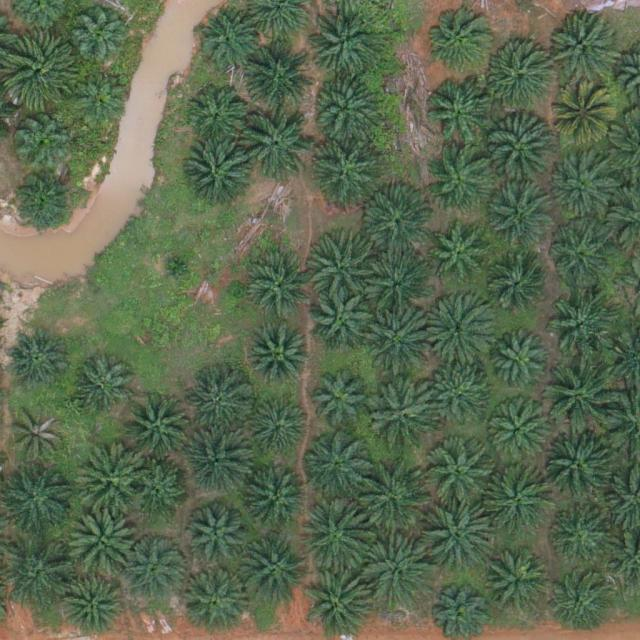Dead: (12, 409, 66, 464)
Healthy: (482, 465, 553, 536), (426, 441, 497, 512), (366, 305, 437, 376), (362, 540, 433, 611), (314, 71, 385, 142), (182, 427, 253, 498), (237, 536, 308, 607), (547, 287, 617, 358), (544, 430, 614, 501), (486, 117, 557, 187), (484, 551, 554, 622), (425, 80, 495, 151), (427, 146, 497, 217), (423, 295, 493, 366), (369, 378, 440, 448), (358, 461, 428, 532), (298, 503, 368, 574), (302, 430, 372, 501), (309, 135, 379, 206), (182, 141, 252, 212), (183, 566, 253, 637), (123, 392, 193, 463), (75, 444, 145, 515), (67, 505, 137, 576), (3, 464, 73, 535), (548, 15, 618, 86), (426, 4, 496, 75), (309, 12, 379, 83), (244, 40, 314, 111), (543, 363, 613, 433), (427, 502, 497, 572), (365, 193, 435, 263), (309, 228, 379, 298), (239, 109, 309, 179), (6, 540, 76, 610), (479, 43, 549, 113), (5, 35, 75, 105), (547, 154, 610, 217), (549, 575, 612, 638), (310, 289, 373, 352), (249, 399, 312, 462), (124, 536, 187, 599), (70, 356, 133, 419), (549, 224, 611, 287), (551, 507, 613, 570), (490, 189, 552, 252), (485, 260, 547, 323), (487, 402, 549, 465), (428, 224, 490, 287), (429, 369, 492, 431), (310, 371, 372, 434), (249, 327, 312, 389), (186, 85, 248, 148), (188, 374, 250, 437), (186, 509, 248, 572), (61, 575, 123, 638), (12, 169, 74, 232), (6, 327, 68, 390), (198, 10, 260, 73), (367, 254, 429, 316), (249, 259, 311, 321), (247, 472, 309, 534), (493, 335, 548, 391), (131, 464, 186, 519), (14, 111, 69, 166), (75, 71, 130, 126), (73, 13, 128, 68)
Small: (160, 251, 191, 283)
Yellow: (551, 87, 613, 150)
